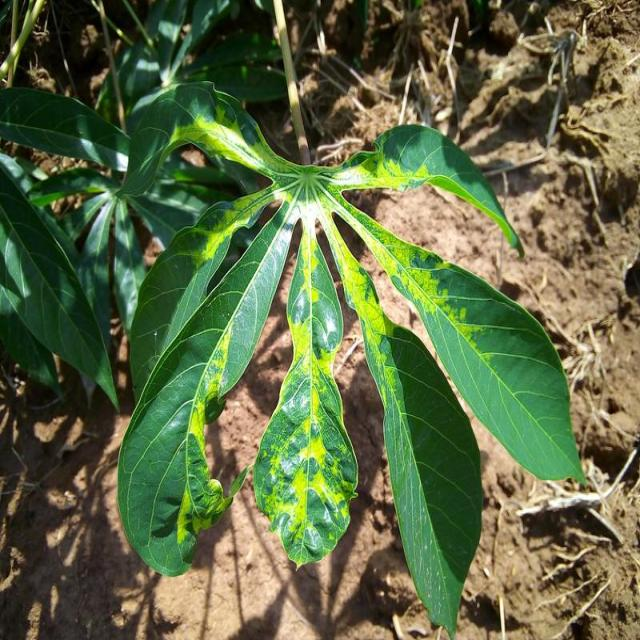cassava leaf: (114, 79, 586, 635)
